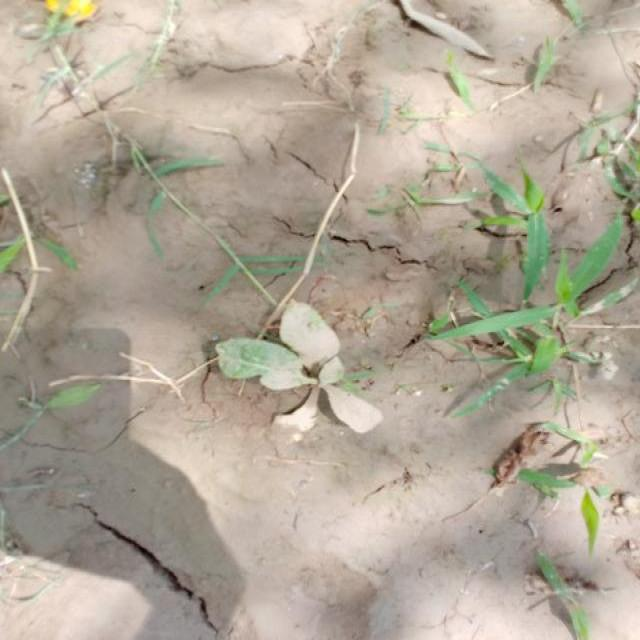crop: (213, 298, 384, 438)
